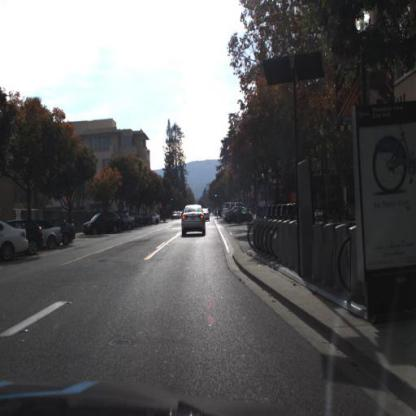car: (7, 219, 46, 257), (82, 211, 127, 238), (180, 201, 209, 238), (39, 221, 66, 254), (62, 217, 79, 245), (119, 209, 137, 234), (225, 207, 253, 223), (202, 206, 211, 224)
